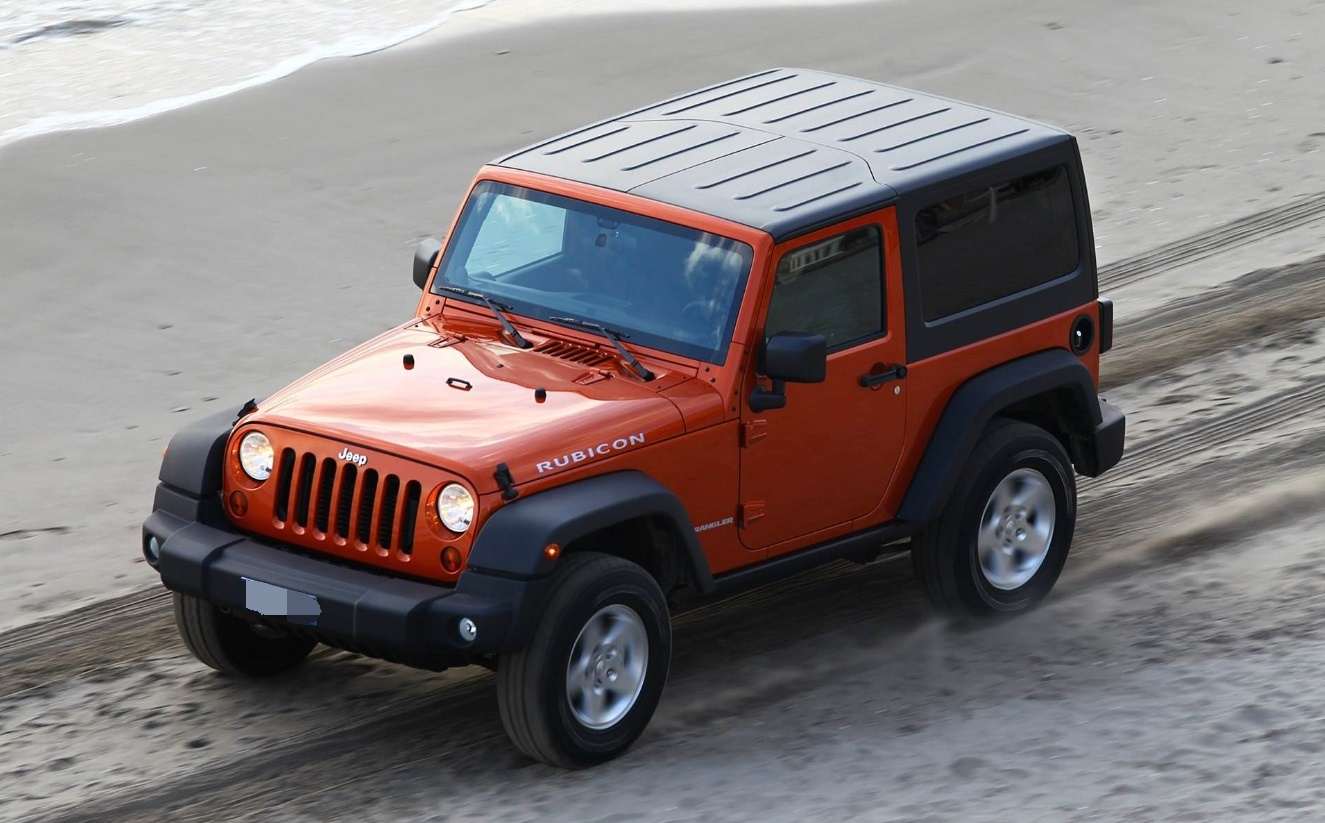jeep: (159, 61, 1126, 753)
